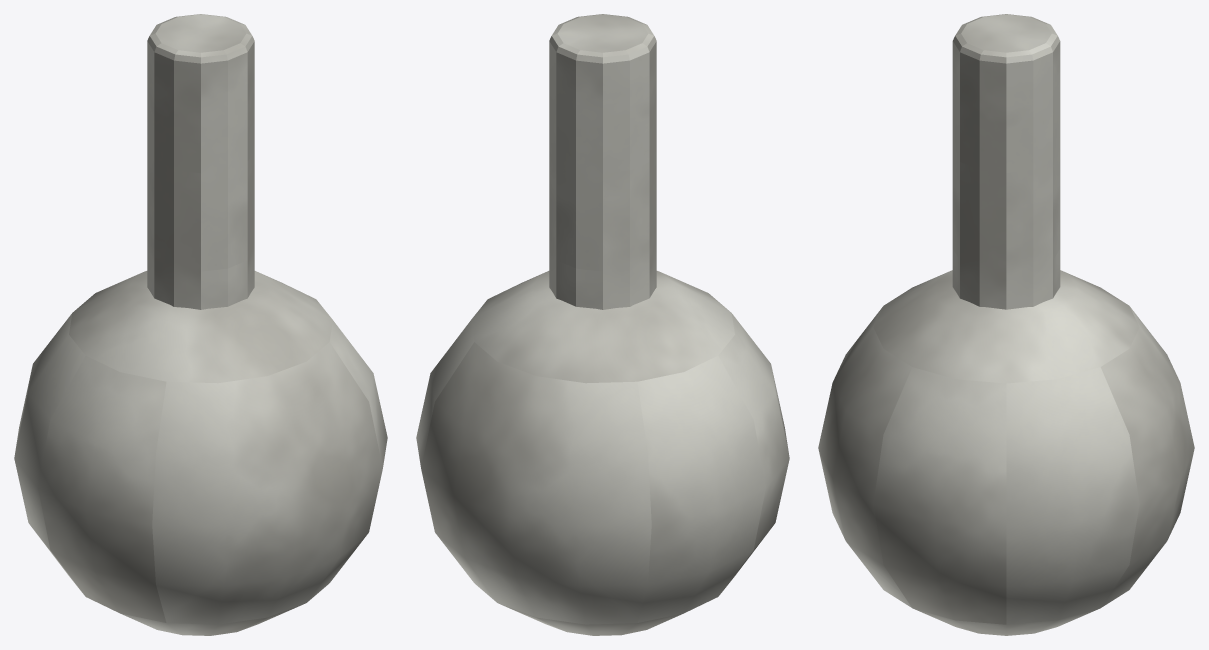
File: Y02_beakers_flasks_v2.glb
3 renders of one model, left to right at view 1: azimuth 30°, elevation 25°; view 2: azimuth 150°, elevation 25°; view 3: azimuth 270°, elevation 25°, orthographic.
Parts seen in each view (by area): view 1: Y02_beakers_flasks_v2; view 2: Y02_beakers_flasks_v2; view 3: Y02_beakers_flasks_v2.
Part boxes in pixels (x1,y1,x2,y2): Y02_beakers_flasks_v2: (14, 14, 387, 635); Y02_beakers_flasks_v2: (416, 14, 789, 635); Y02_beakers_flasks_v2: (818, 14, 1194, 635).
Size of the model in its own units: 0.175 by 0.3 by 0.175.
Materials: 2 (2 with a texture image).
